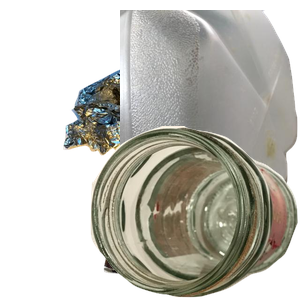glass: (90, 126, 300, 300)
metal: (61, 54, 225, 202)
plastic: (120, 10, 300, 190)
trash: (101, 157, 270, 300)
